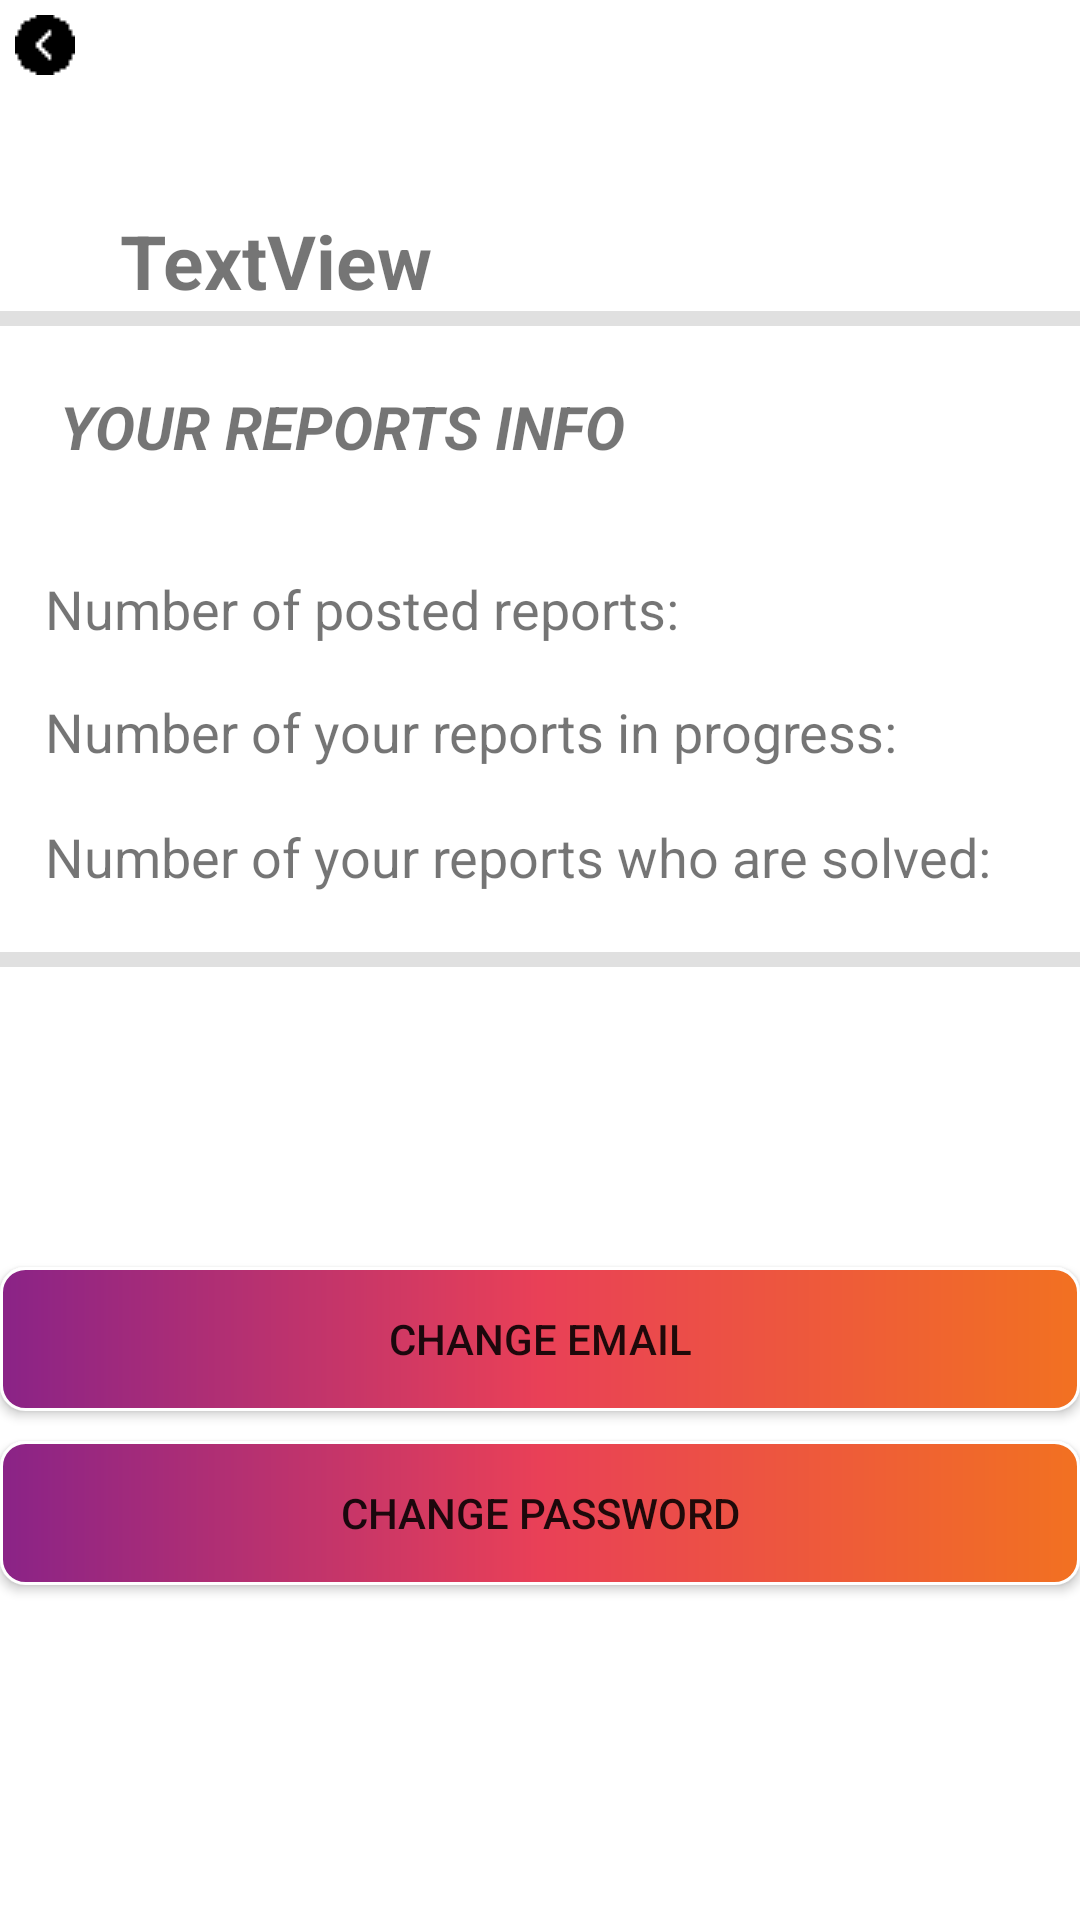

Icon bounding boxes for this 1080px×1920px phone screenshot, format detection(x1, y1, x2, y2):
back: detection(15, 15, 75, 75)
